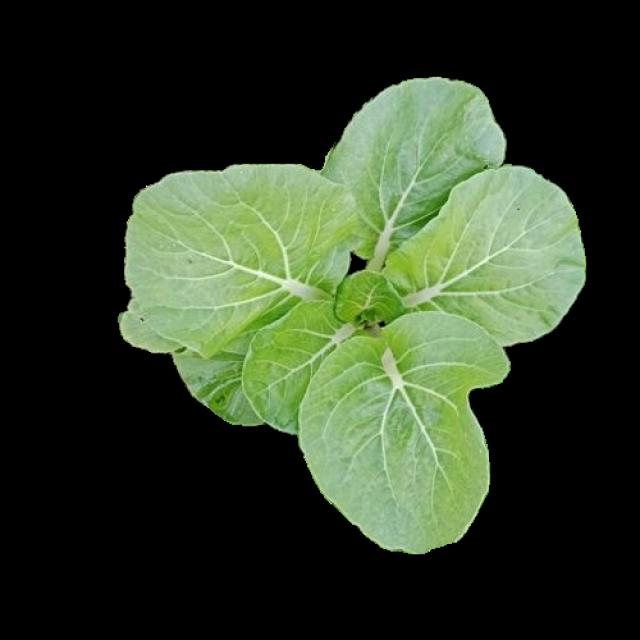mature: (122, 80, 586, 550)
unhealthy: (294, 315, 508, 549), (126, 160, 350, 351), (322, 77, 504, 257), (169, 333, 262, 430)
